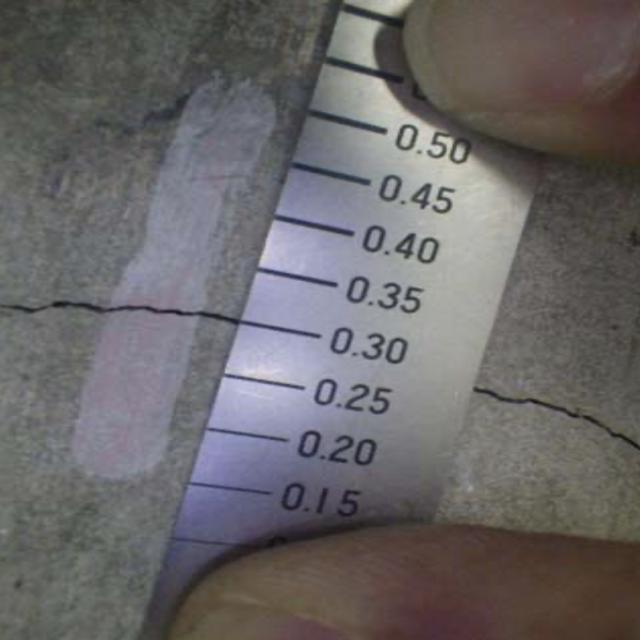crack: (0, 268, 634, 457)
